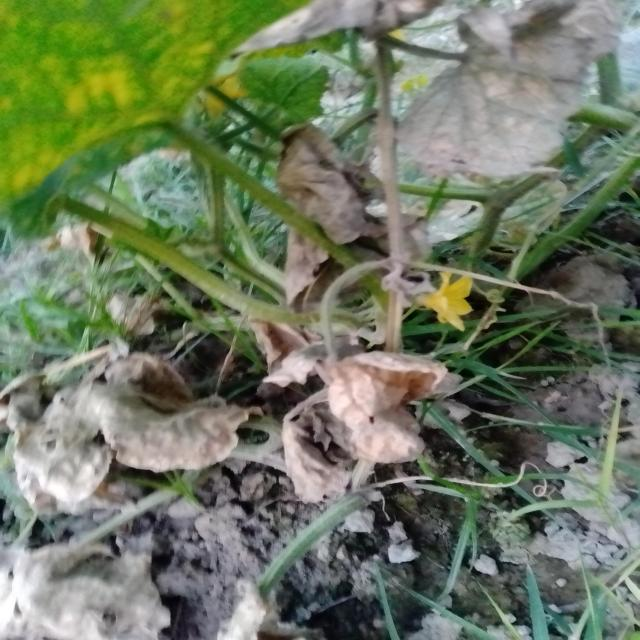cucumber_bacterial: (384, 9, 640, 236), (15, 349, 251, 515), (276, 339, 454, 505), (0, 522, 172, 640), (265, 112, 371, 288), (232, 1, 481, 56)
